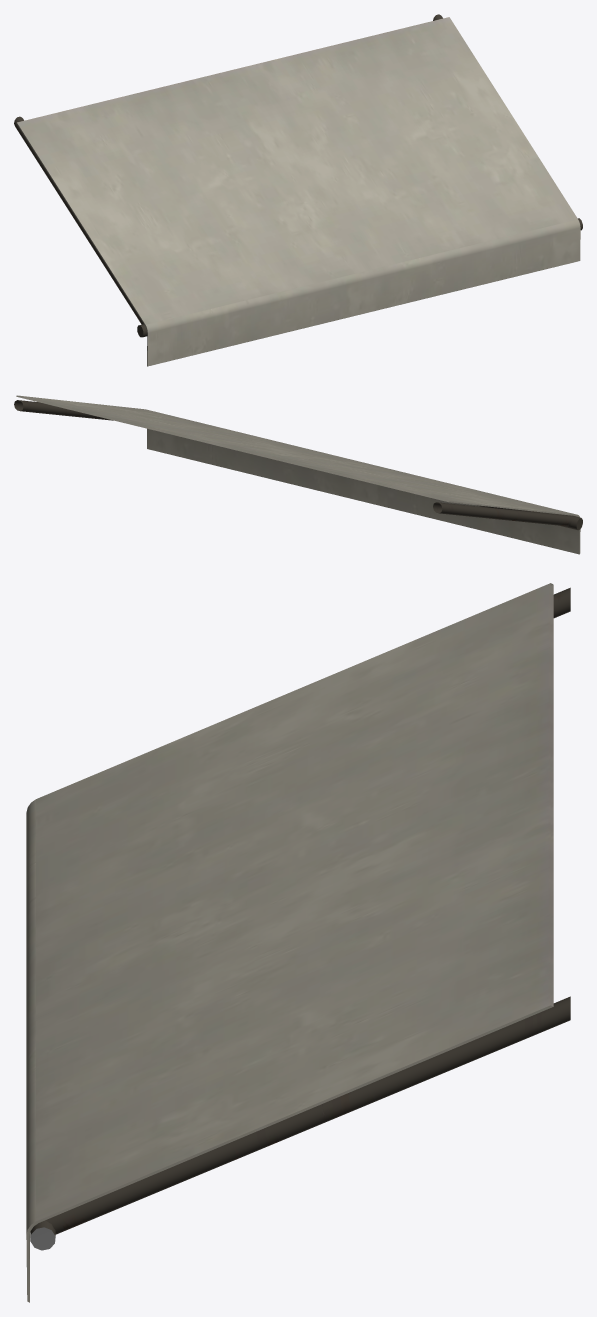
File: Prop_Awning.glb
3 renders of one model, top to bottom at view 1: azimuth 30°, elevation 25°; view 2: azimuth 150°, elevation 25°; view 3: azimuth 270°, elevation 25°, orthographic. The views are drawn at different scales.
Parts seen in each view (by area): view 1: Prop_Awning; view 2: Prop_Awning; view 3: Prop_Awning.
Boxes of the visible parts, <box> form: Prop_Awning: <box>14,14,582,366</box>; Prop_Awning: <box>14,395,582,554</box>; Prop_Awning: <box>26,583,570,1302</box>.
Size of the model in its own units: 2.85 by 0.9245 by 1.53.
2 materials, 2 textured.
